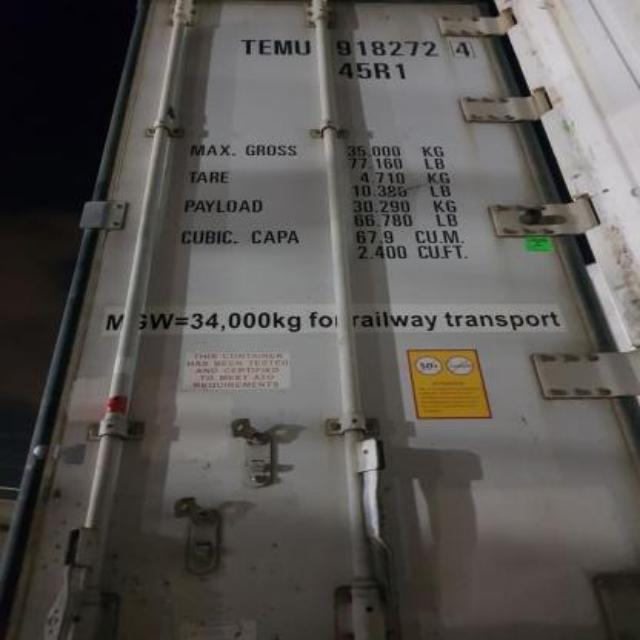1: (355, 40, 367, 56)
2: (422, 41, 440, 58), (387, 40, 405, 56)
4: (452, 39, 474, 61)
7: (404, 40, 420, 59)
8: (370, 40, 388, 56)
9: (336, 39, 352, 57)
E: (258, 38, 272, 56)
M: (273, 39, 293, 57)
T: (240, 39, 258, 55)
U: (294, 39, 312, 57)
